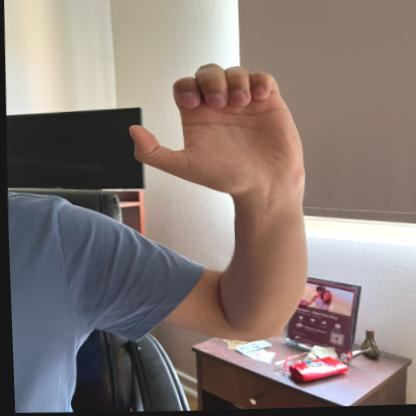E: (114, 54, 315, 196)
